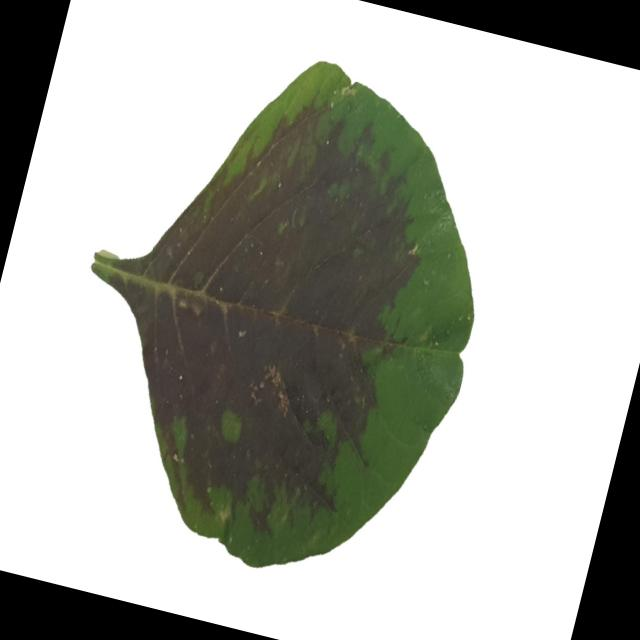Medicinal-Arive Dantu: (28, 12, 531, 607)
